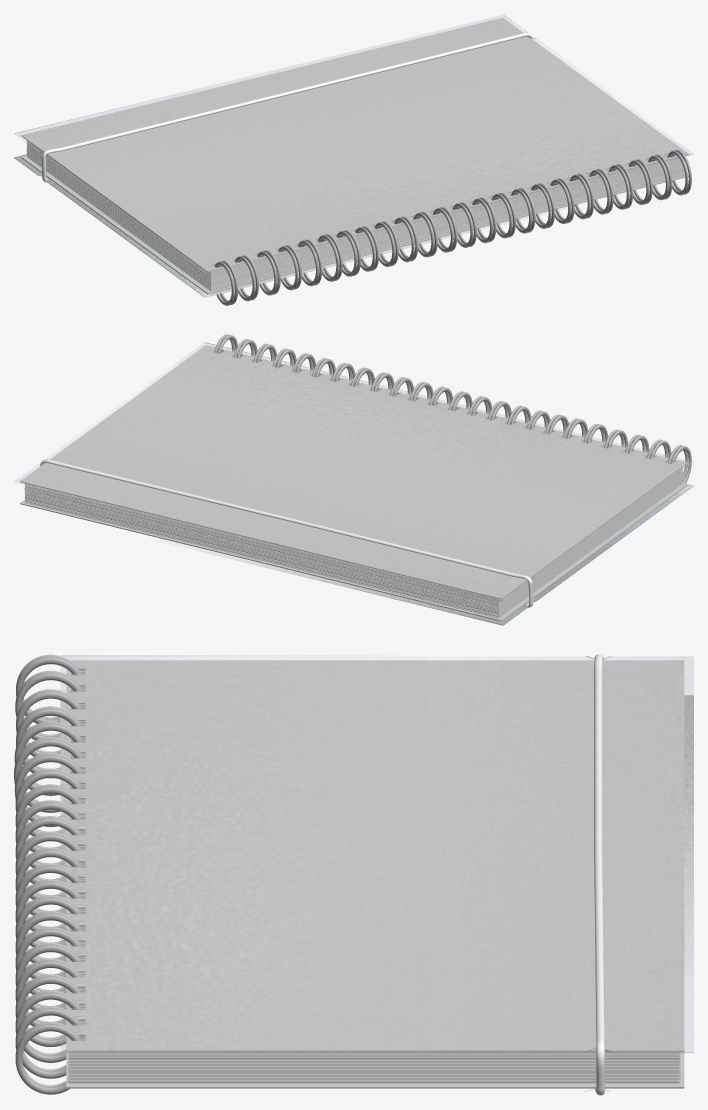
Rendered from product-testing2.glb.
3 views of the same model, one above another, from view 1: azimuth 30°, elevation 25°; view 2: azimuth 150°, elevation 25°; view 3: azimuth 270°, elevation 25° (orthographic). The views are drawn at different scales.
Visible parts, largest first — view 1: FrontCover, PlasticFilm, Spiral, Paper, Rubberband, BackCover; view 2: FrontCover, PlasticFilm, Paper, Spiral, BackCover, Rubberband; view 3: FrontCover, PlasticFilm, Spiral, Paper, Rubberband, BackCover.
Part boxes in pixels (left/top/right/bottom): FrontCover: left=21, top=17, right=688, bottom=272; PlasticFilm: left=14, top=15, right=693, bottom=297; Spiral: left=214, top=150, right=691, bottom=305; Paper: left=26, top=140, right=684, bottom=291; Rubberband: left=41, top=32, right=533, bottom=182; BackCover: left=21, top=155, right=688, bottom=294; FrontCover: left=20, top=345, right=687, bottom=599; PlasticFilm: left=14, top=342, right=693, bottom=625; Paper: left=24, top=350, right=683, bottom=618; Spiral: left=214, top=334, right=691, bottom=483; BackCover: left=20, top=483, right=687, bottom=621; Rubberband: left=40, top=459, right=533, bottom=607; FrontCover: left=66, top=660, right=684, bottom=1052; PlasticFilm: left=60, top=655, right=693, bottom=1091; Spiral: left=14, top=654, right=83, bottom=1094; Paper: left=67, top=670, right=680, bottom=1083; Rubberband: left=594, top=654, right=604, bottom=1095; BackCover: left=66, top=1052, right=684, bottom=1088.
Size of the model in its own units: 20.89 by 1.78 by 15.07.
Materials: 3 (1 with a texture image).
